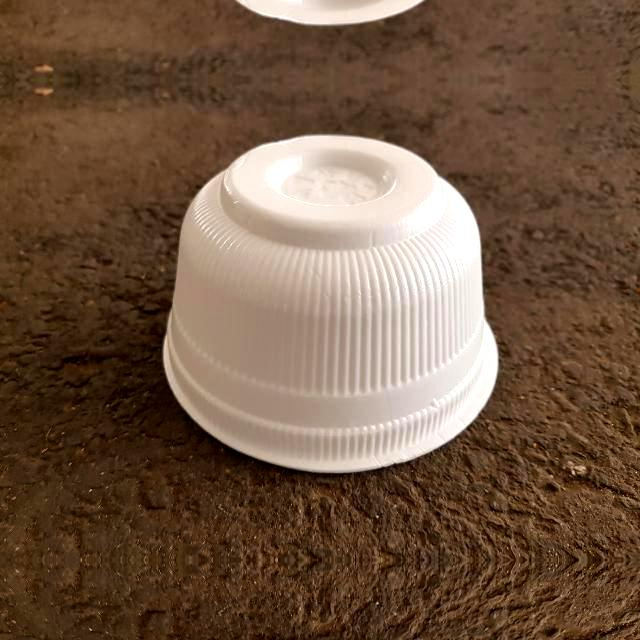Styrofoam: (162, 135, 500, 473), (164, 134, 498, 473)
